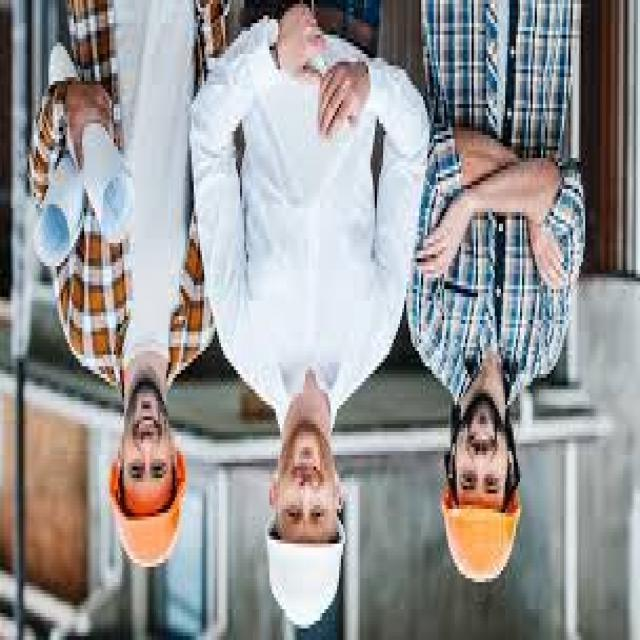safetyhelmet: (261, 447, 345, 626), (96, 419, 193, 570), (432, 443, 526, 592)
